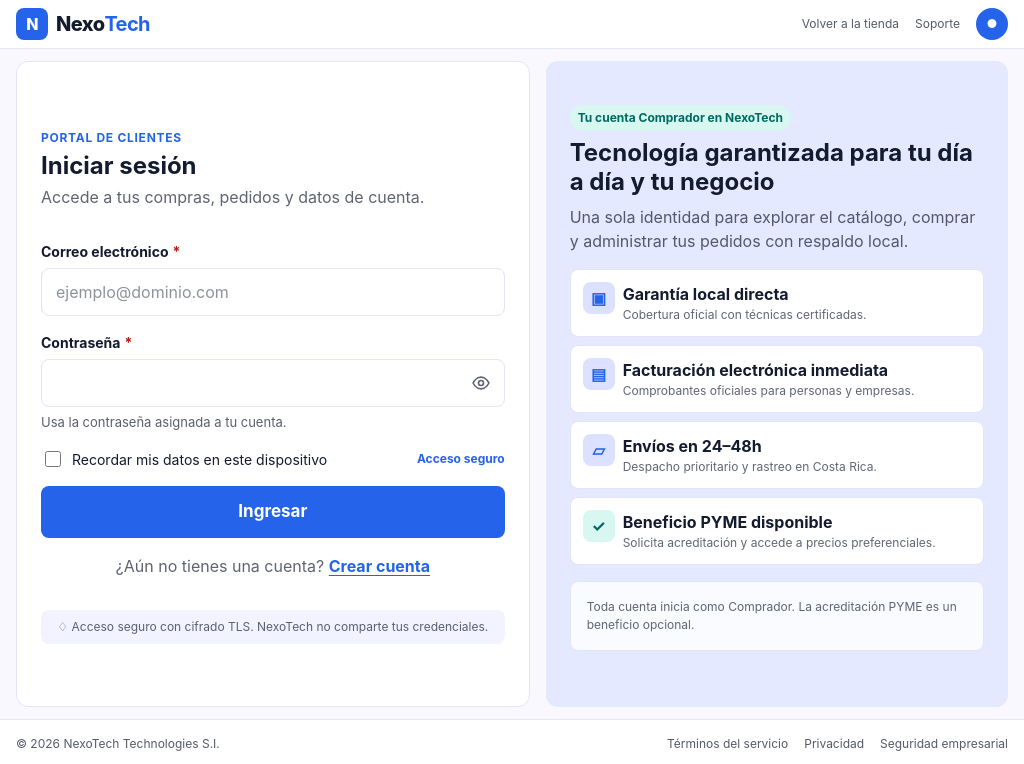
Test case: autenticación demostrativa › lleva al comprador a Inicio aunque haya ingresado desde Mi cuenta
Expected: the heading "Iniciar sesión" is shown, 41,151 -> 196,180
In the field labelled "Correo electrónico*": [273, 292] box 41,268 -> 505,316, type "camila.regular@nexotech.demo.test"
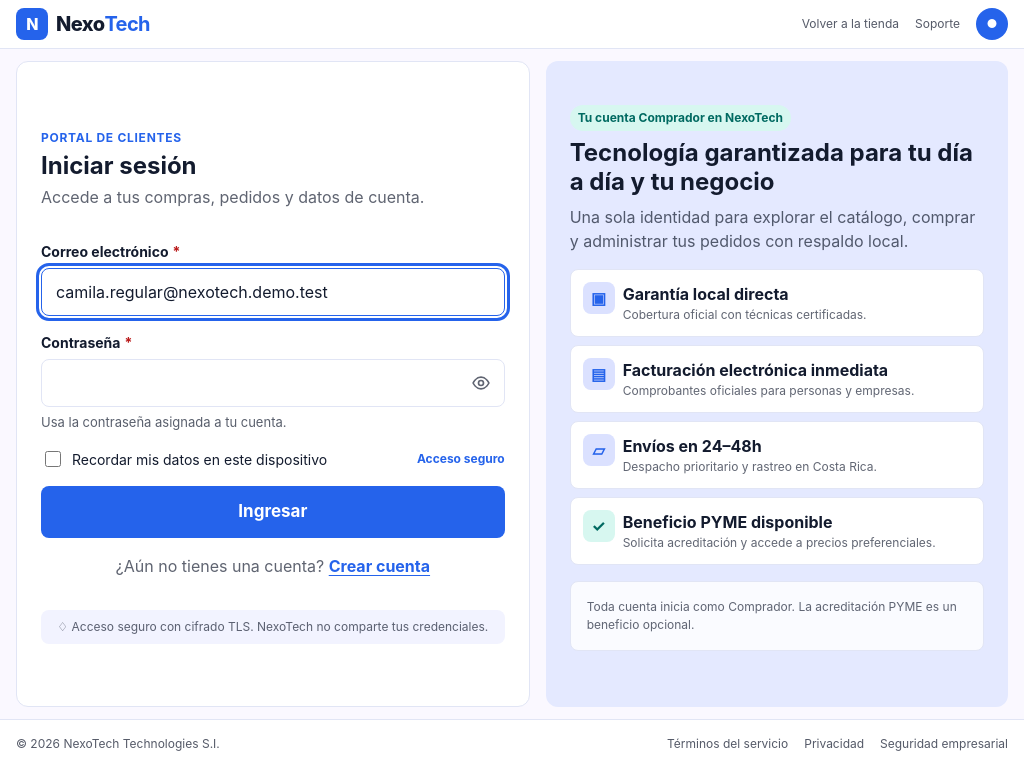
In the password field labelled "Contraseña*": [273, 383] box 41,359 -> 505,407, type "Comprador123!"
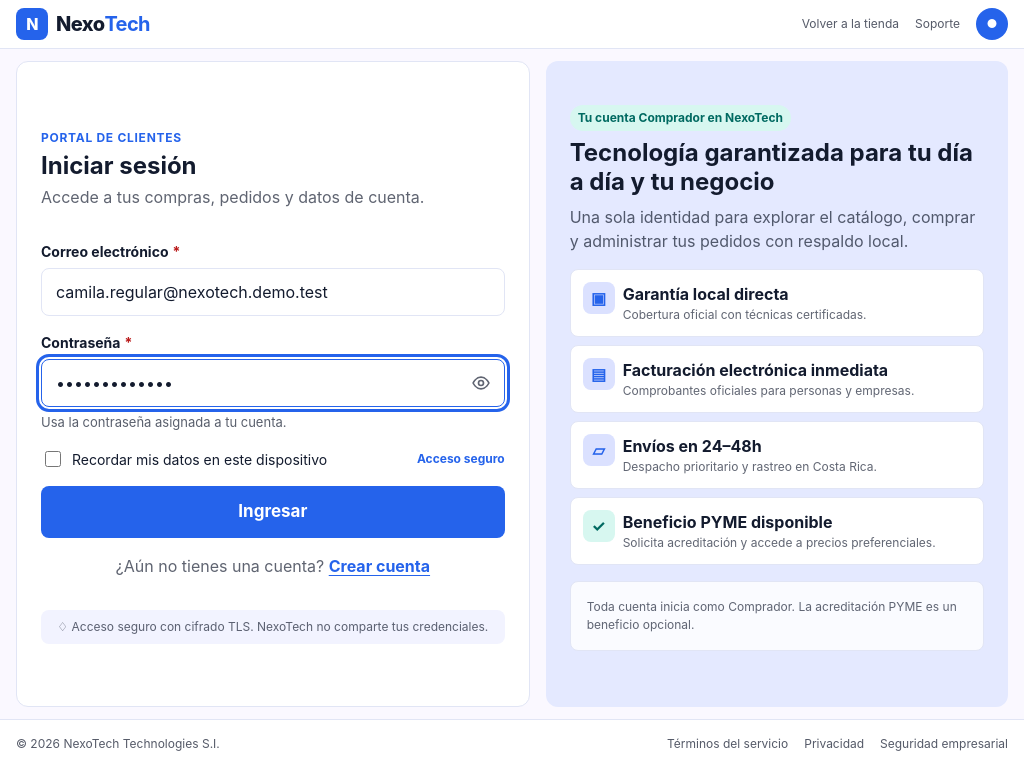
Click the button "Ingresar": [273, 512] box 41,486 -> 505,538
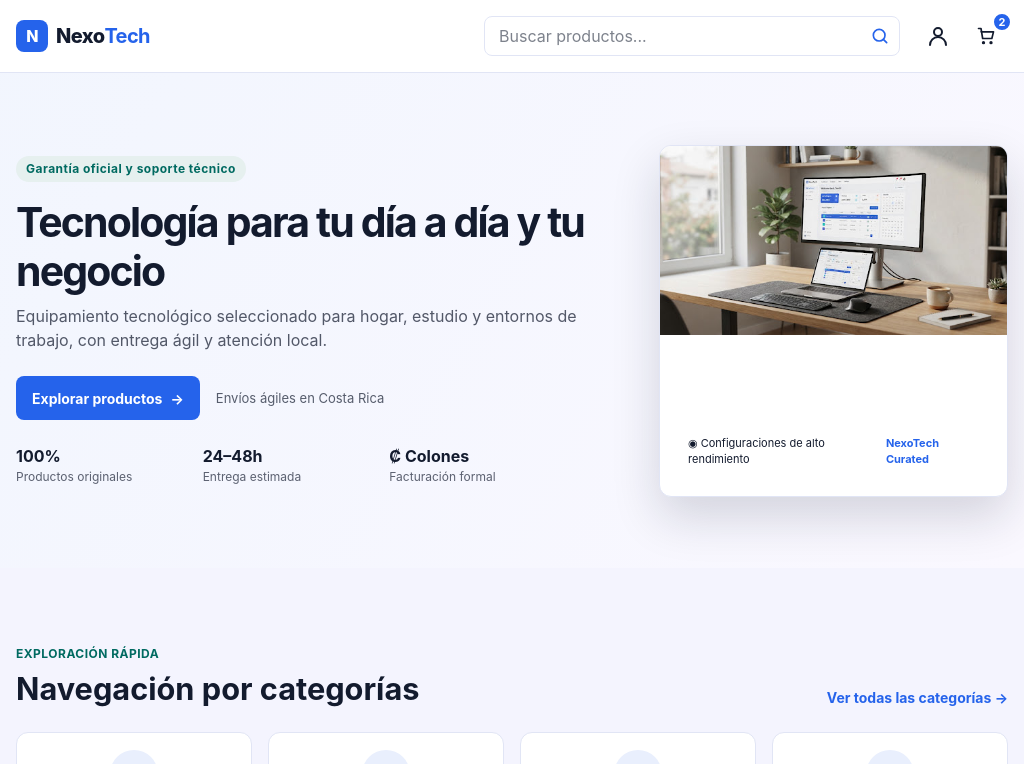
Now the heading "Tecnología para tu día a día y tu negocio" is shown, box 16,198 -> 598,296
